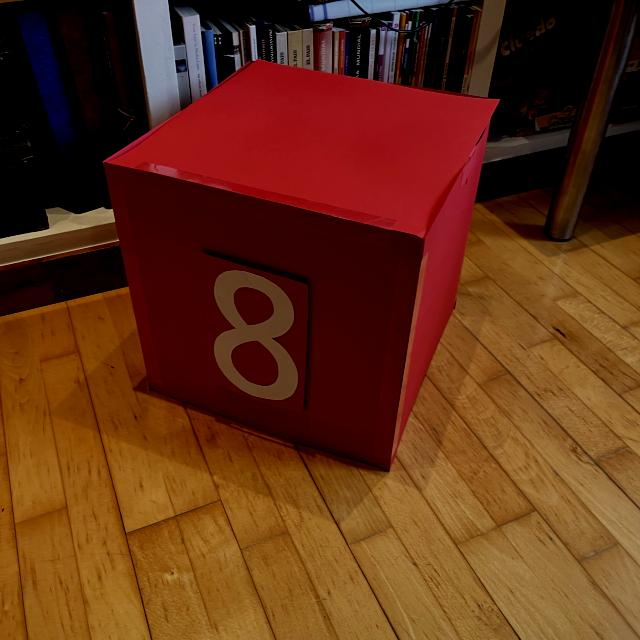box: (101, 57, 501, 473)
